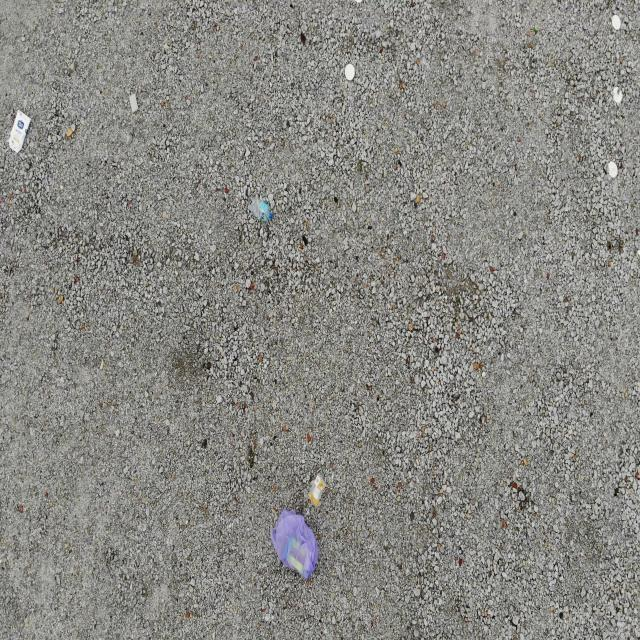rubbish: (270, 507, 318, 583), (8, 109, 30, 153), (248, 194, 274, 222), (306, 474, 328, 507), (128, 93, 138, 114)
